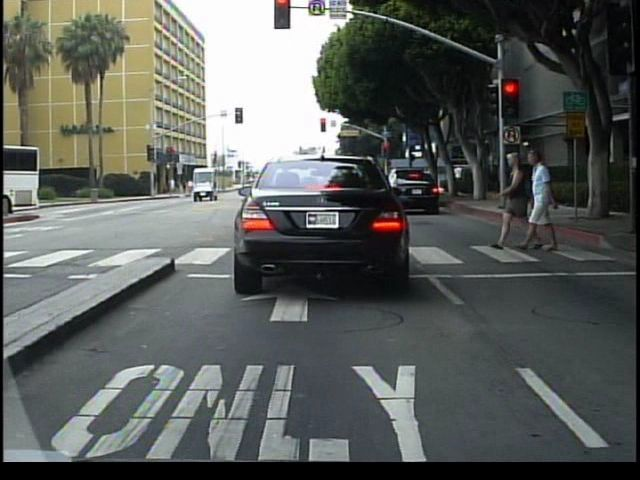person: (527, 144, 565, 256), (499, 150, 531, 258)
